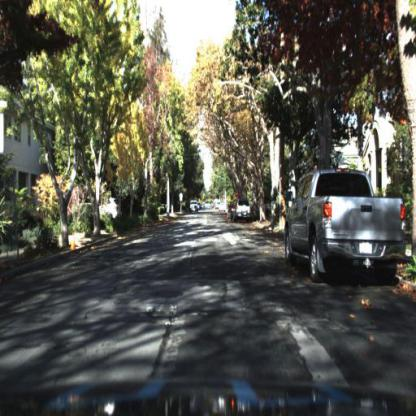car: (285, 168, 408, 286), (100, 195, 122, 222), (234, 200, 252, 221), (226, 207, 236, 220)
